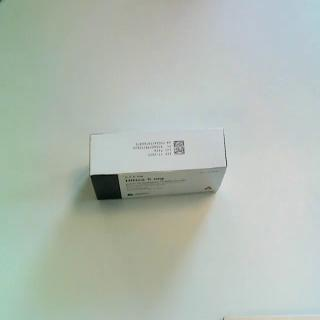ultiva5mg: (88, 126, 229, 203)
